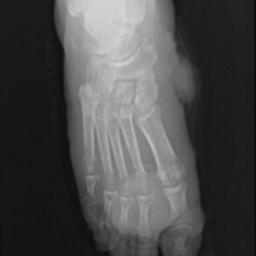cancer: (157, 28, 197, 108)
